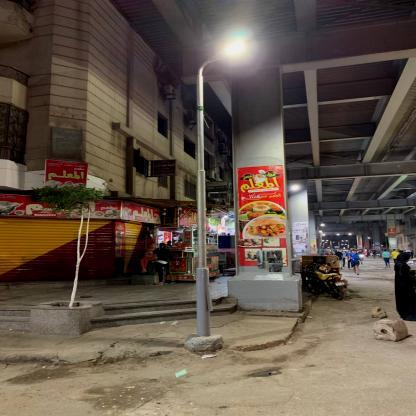light_pole: (196, 41, 247, 336), (285, 185, 301, 202), (317, 224, 325, 247)
